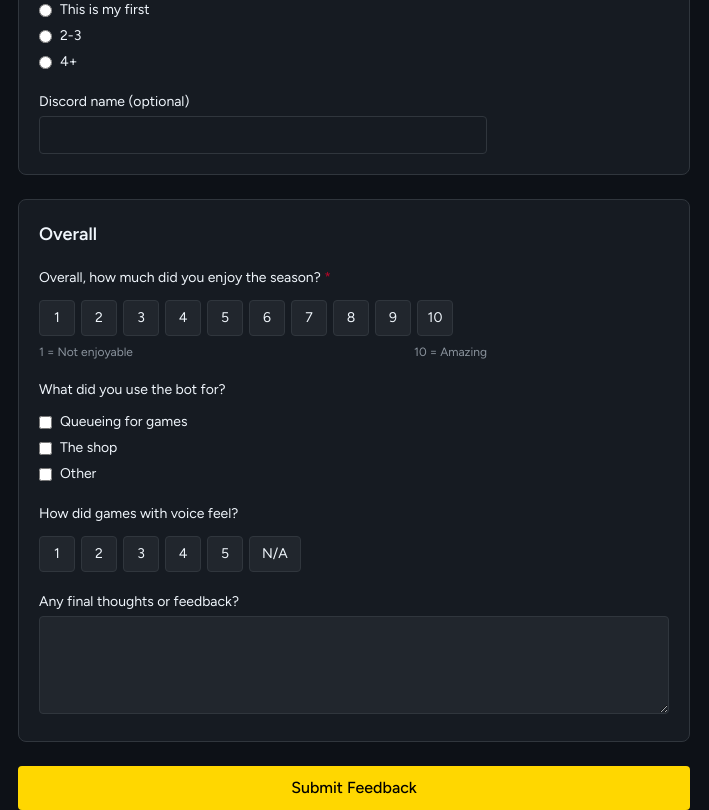
it: SeasonFeedback page › blocks submission until required questions are answered
This screenshot has width=709, height=810.
(page scrolled)
Click the button "Submit Feedback" at (354, 788), box [18,766,690,809]
(page scrolled)
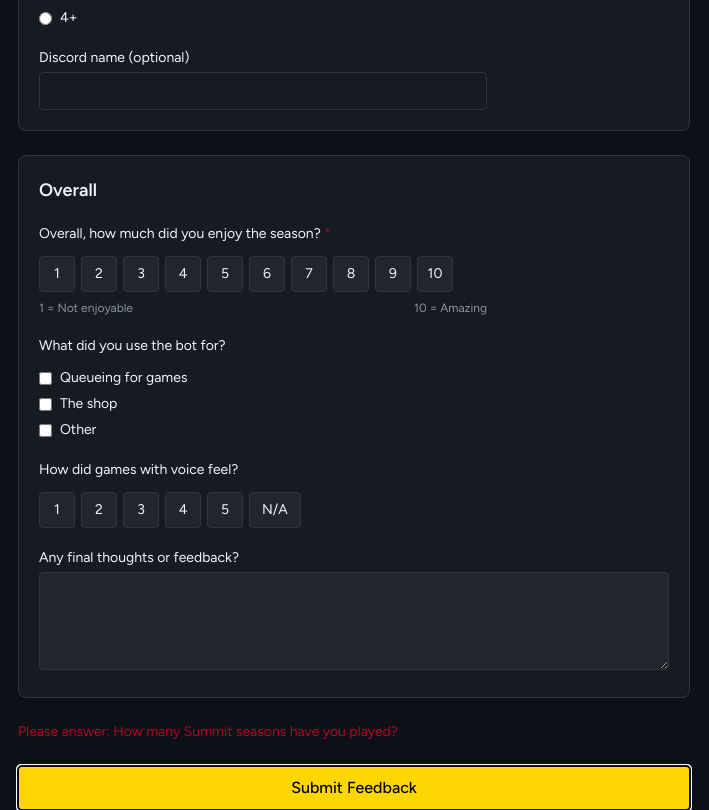
Check: the message shows "How many Summit seasons", box [18,723,398,740]
